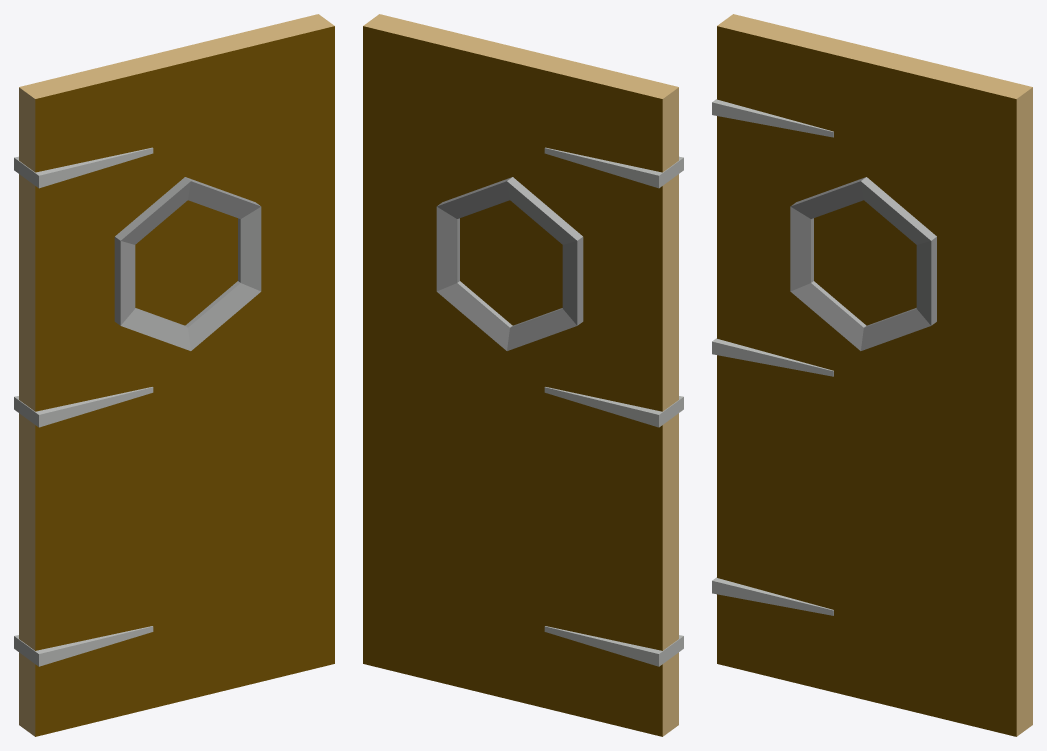
The model's file is Door.fbx.
3 renders of one model, left to right at view 1: azimuth 30°, elevation 25°; view 2: azimuth 150°, elevation 25°; view 3: azimuth 330°, elevation 25°, orthographic.
Parts seen in each view (by area): view 1: Door; view 2: Door; view 3: Door.
Boxes of the visible parts, left/top/right/bottom form: Door: left=14, top=14, right=334, bottom=736; Door: left=363, top=14, right=683, bottom=736; Door: left=712, top=14, right=1032, bottom=736.
Bounding box in the file's own units: 2.56 × 5.2 × 0.4165.
